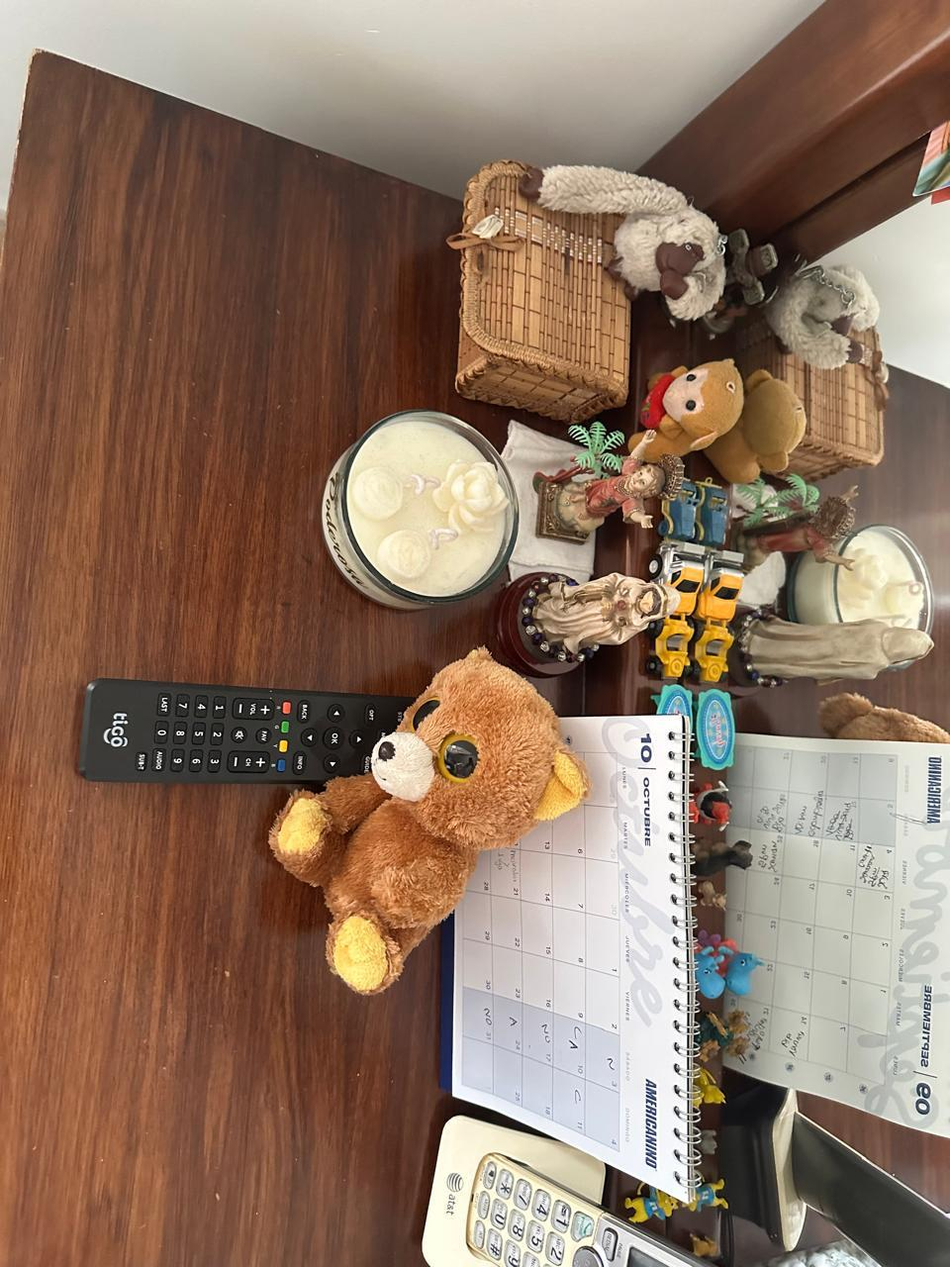peluche_sebastian: (262, 638, 584, 997)
